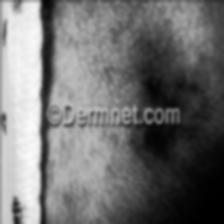Toxin: (134, 34, 186, 106)
